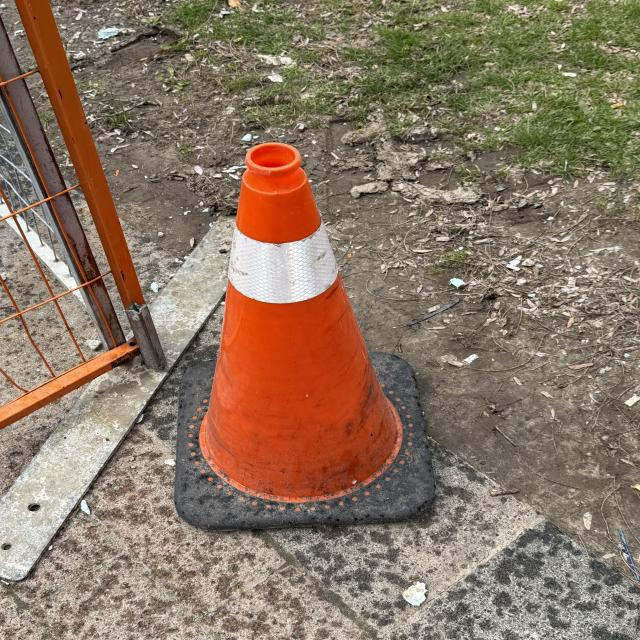Traffic Cone: (171, 141, 437, 532)
